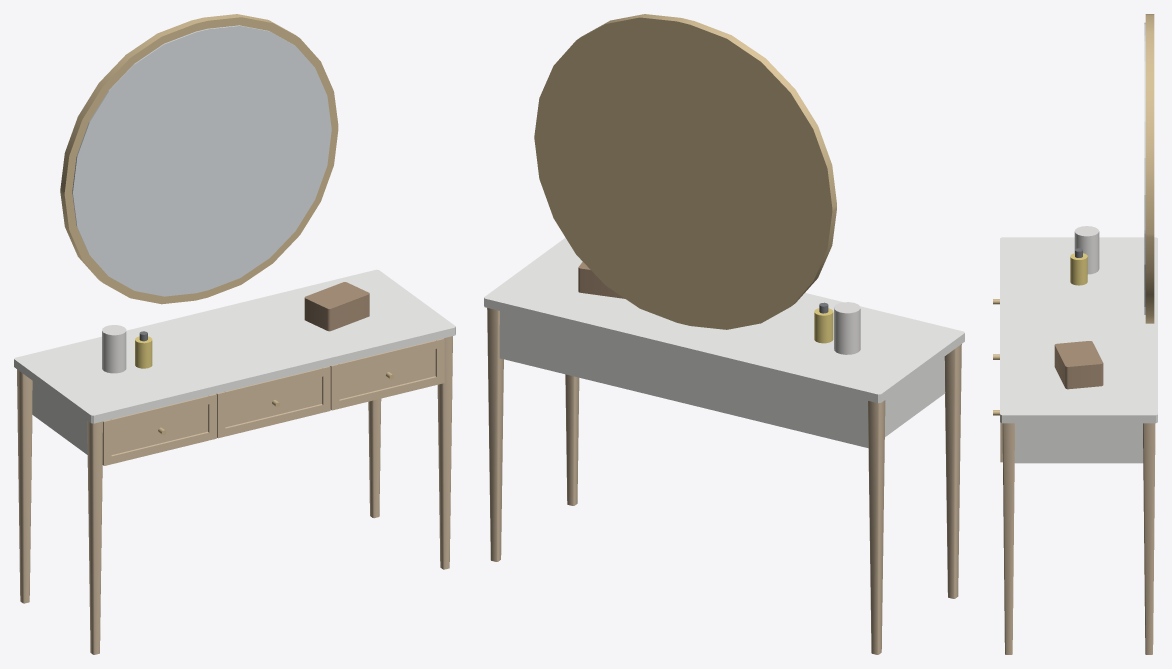
3 renders of one model, left to right at view 1: azimuth 30°, elevation 25°; view 2: azimuth 150°, elevation 25°; view 3: azimuth 270°, elevation 25°, orthographic. The views are drawn at different scales.
Visible parts, largest first — view 1: Bàn trang điểm Dài=1200; Sâu=450; view 2: Bàn trang điểm Dài=1200; Sâu=450; view 3: Bàn trang điểm Dài=1200; Sâu=450.
Part boxes in pixels (bbox=[...]): Bàn trang điểm Dài=1200; Sâu=450: bbox=[14, 14, 455, 654]; Bàn trang điểm Dài=1200; Sâu=450: bbox=[484, 14, 964, 654]; Bàn trang điểm Dài=1200; Sâu=450: bbox=[993, 14, 1157, 654].
Size of the model in its own units: 1.2 by 1.69 by 0.47.
